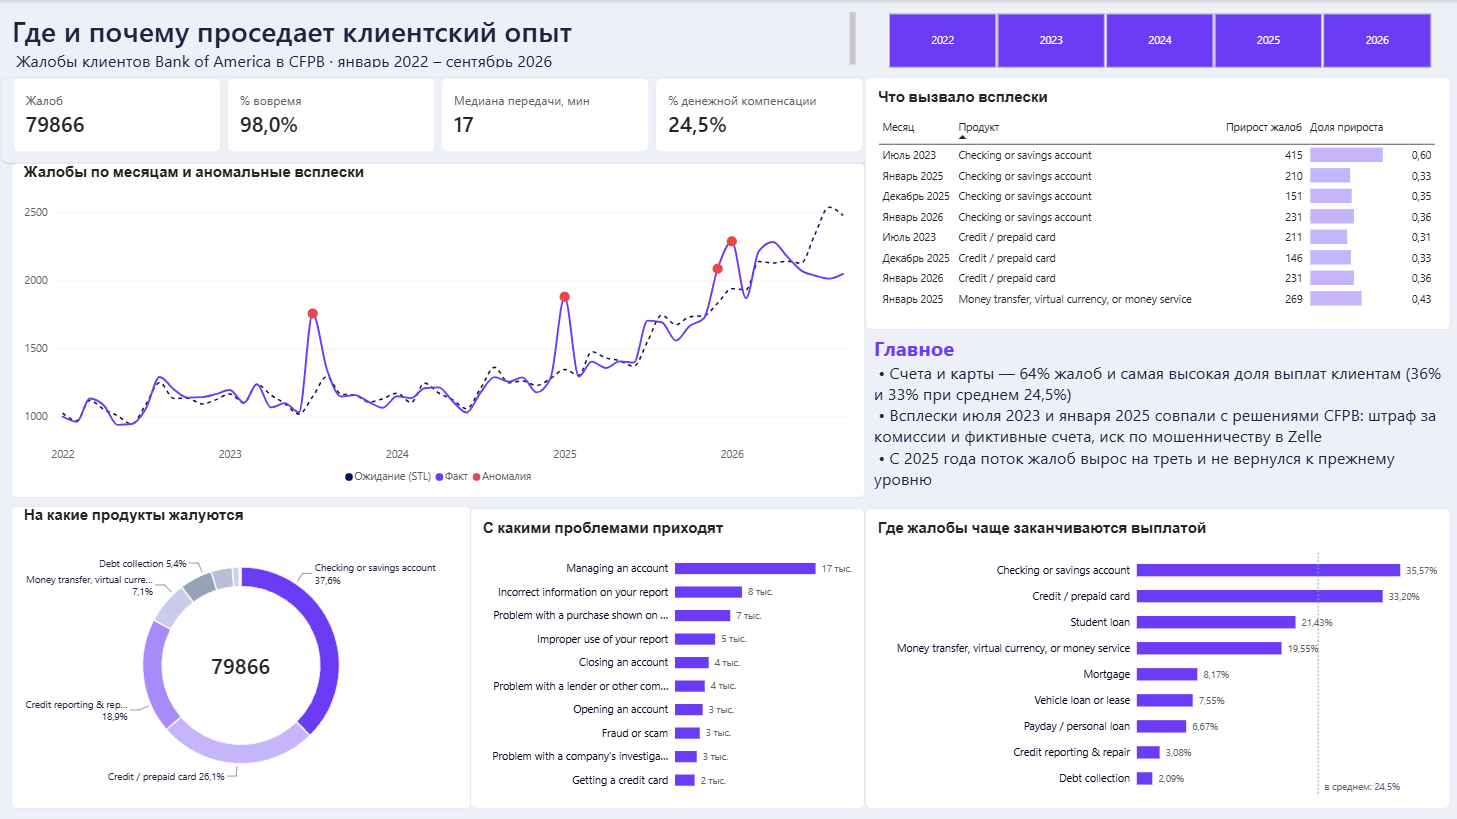

What the dashboard file says about the page in this screenshot:
{"tool":"powerbi","page":{"name":"Страница 1","canvas":[1920,1080],"ordinal":0},"visuals":[{"type":"cardVisual","fields":{"Data":["v_monthly.Жалоб","v_monthly.% вовремя","v_monthly.Медиана передачи, ч","v_monthly.% денежной компенсации"]},"box":[0,101.4,1150.7,112.7],"z":0},{"type":"textbox","box":[0,0,1139.2,101],"z":1000},{"type":"slicer","fields":{"Values":["v_monthly.Год"]},"box":[1138.5,0,781.5,102.9],"z":2000},{"type":"lineChart","title":"Жалобы по месяцам и аномальные всплески","fields":{"Category":["mart_monthly_anomalies.month"],"Y":["Sum(mart_monthly_anomalies.expected)","Sum(mart_monthly_anomalies.complaints)","mart_spike_drivers.Аномалия"]},"box":[14.5,214,1125,441],"z":3000},{"type":"donutChart","title":"На какие продукты жалуются","fields":{"Category":["v_product_issue.product_group"],"Y":["Sum(v_product_issue.complaints)"]},"box":[15.1,666.4,605.8,398.8],"z":4000},{"type":"clusteredBarChart","title":"Где жалобы чаще заканчиваются выплатой","fields":{"Category":["v_product_issue.product_group"],"Y":["v_product_issue.% компенсации по продукту"]},"box":[1139.4,669.5,770.9,395.9],"z":5000},{"type":"tableEx","title":"Что вызвало всплески","fields":{"Values":["mart_spike_drivers.month","mart_spike_drivers.segment","Sum(mart_spike_drivers.growth)","Sum(mart_spike_drivers.share_of_growth)"]},"box":[1139.4,101.4,770.9,333.1],"z":6000},{"type":"clusteredBarChart","title":"С какими проблемами приходят","fields":{"Category":["v_product_issue.issue"],"Y":["Sum(v_product_issue.complaints)"]},"box":[619.6,669.5,519.8,395.9],"z":7000},{"type":"textbox","box":[1139,434,771,221],"z":8000}]}

Visuals, with their boxes in screenshot pixels (x1, y1, x2, y2), scaled from the page's 1920x1080 canvas onto the 1457x819 screenshot:
cardVisual - v_monthly.Жалоб x v_monthly.% вовремя: x1=0 y1=77 x2=873 y2=162
textbox: x1=0 y1=0 x2=864 y2=77
slicer - v_monthly.Год: x1=864 y1=0 x2=1456 y2=78
"Жалобы по месяцам и аномальные всплески" lineChart: x1=11 y1=162 x2=865 y2=497
"На какие продукты жалуются" donutChart: x1=11 y1=505 x2=471 y2=808
"Где жалобы чаще заканчиваются выплатой" clusteredBarChart: x1=865 y1=508 x2=1450 y2=808
"Что вызвало всплески" tableEx: x1=865 y1=77 x2=1450 y2=329
"С какими проблемами приходят" clusteredBarChart: x1=470 y1=508 x2=865 y2=808
textbox: x1=864 y1=329 x2=1449 y2=497
